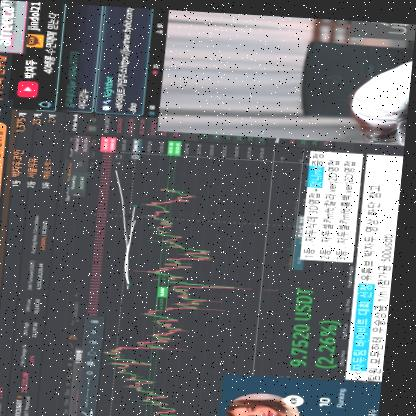streamer: (347, 46, 414, 142)
